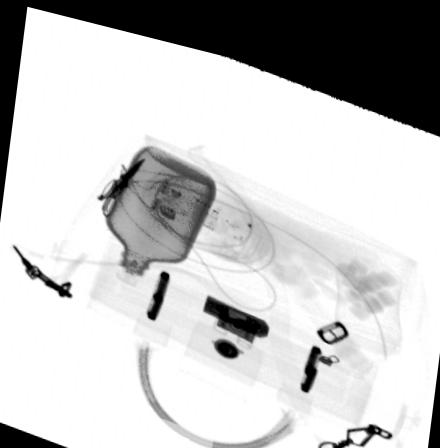Scissors: (97, 148, 143, 212)
